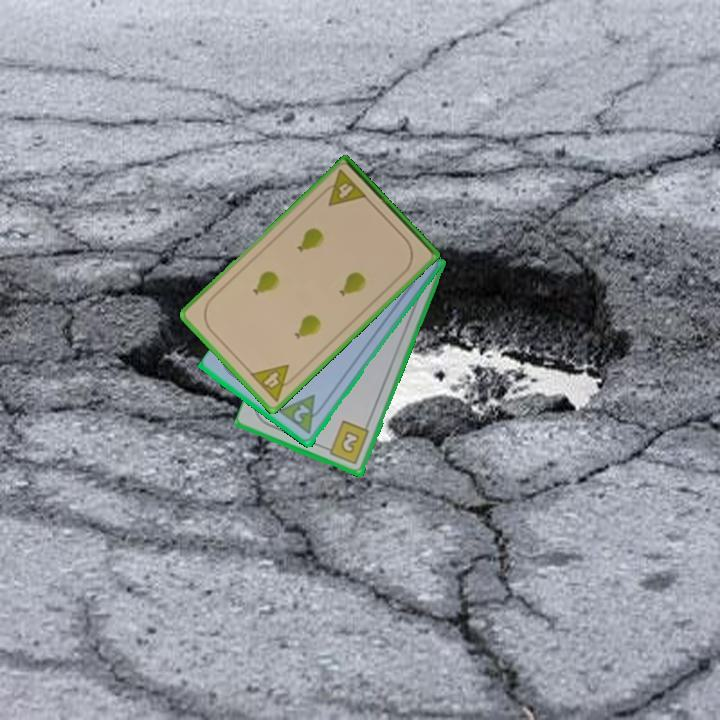2b: (321, 418, 372, 467)
2p: (290, 401, 313, 426)
4p: (246, 361, 301, 405), (317, 166, 370, 209)
